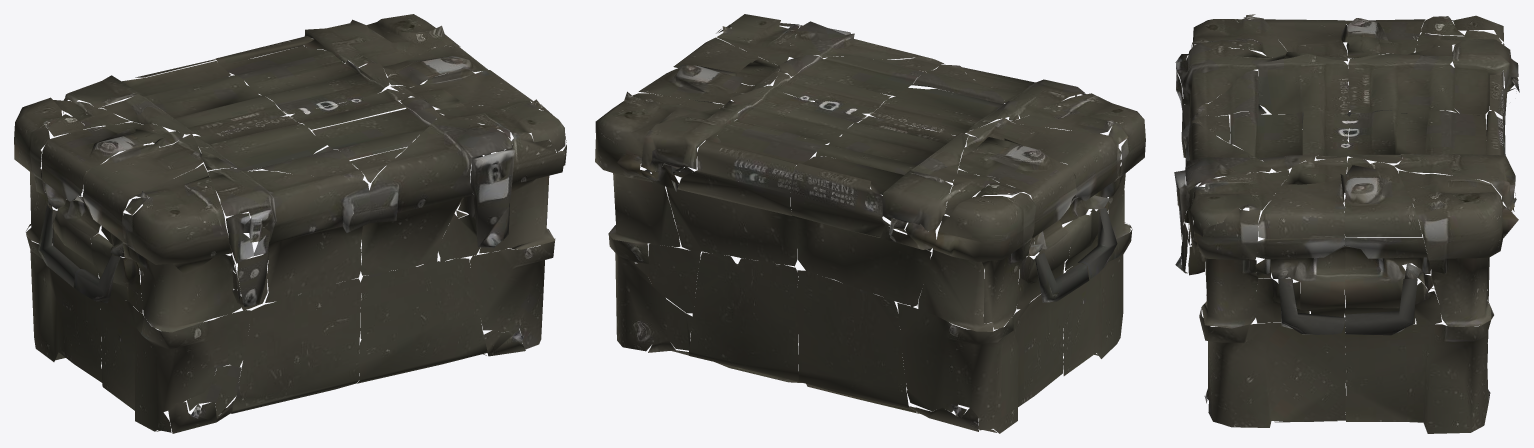
The model's file is prop_meridian_crate_LOD1.glb.
The picture shows the model from 3 angles, left to right: view 1: azimuth 30°, elevation 25°; view 2: azimuth 150°, elevation 25°; view 3: azimuth 270°, elevation 25°; orthographic projection.
Visible parts, largest first — view 1: tripo_node_18f05e10-e405-4cf5-9c76-78acff66053a; view 2: tripo_node_18f05e10-e405-4cf5-9c76-78acff66053a; view 3: tripo_node_18f05e10-e405-4cf5-9c76-78acff66053a.
Part boxes in pixels (x1,y1,x2,y2): tripo_node_18f05e10-e405-4cf5-9c76-78acff66053a: (14,14,566,433); tripo_node_18f05e10-e405-4cf5-9c76-78acff66053a: (595,14,1145,433); tripo_node_18f05e10-e405-4cf5-9c76-78acff66053a: (1174,14,1519,433).
Bounding box in the file's own units: 1 × 0.5309 × 0.69.
Materials: 1 (1 with a texture image).
